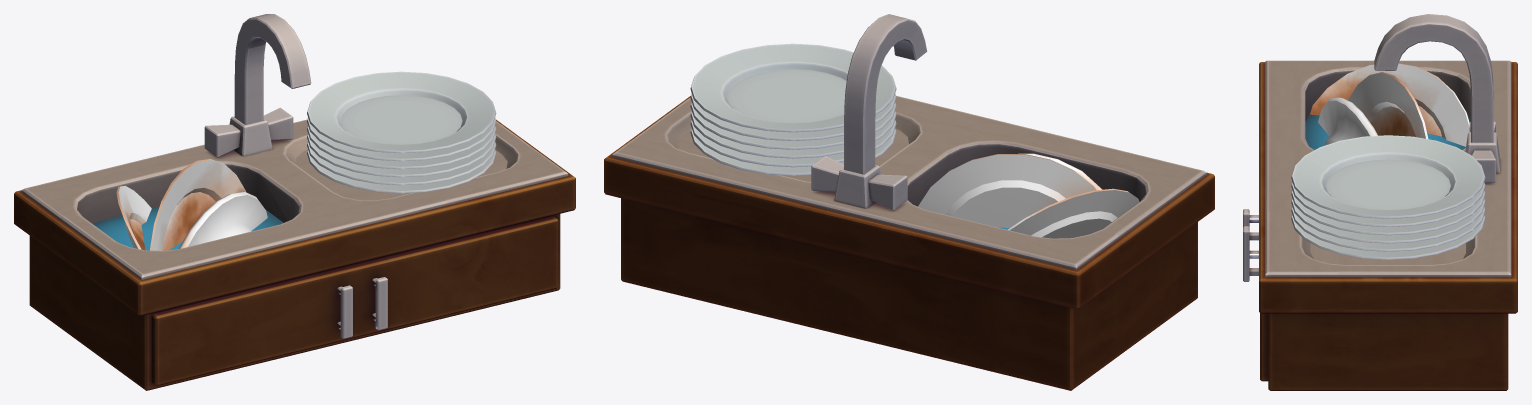
File: washSink.gltf
3 views of the same model, side by side, from view 1: azimuth 30°, elevation 25°; view 2: azimuth 150°, elevation 25°; view 3: azimuth 270°, elevation 25° (orthographic). The views are drawn at different scales.
Visible parts, largest first — view 1: washSink, group6, dirtyPlate1, dirtyPlate2, group2, group1, group3, group4, group5, water, dirtyPlate3; view 2: washSink, group6, dirtyPlate1, dirtyPlate3, group4, group3, group5, group2, group1; view 3: washSink, group6, dirtyPlate3, dirtyPlate1, dirtyPlate2, group5, group2, group1, group4, group3, water.
Boxes of the visible parts, x1,y1,x2,y2 form: washSink: [14, 14, 575, 390]; group6: [307, 71, 496, 153]; dirtyPlate1: [150, 159, 245, 250]; dirtyPlate2: [179, 192, 267, 248]; group2: [307, 141, 496, 185]; group1: [307, 149, 496, 193]; group3: [307, 133, 496, 177]; group4: [307, 125, 496, 169]; group5: [307, 117, 496, 161]; water: [93, 206, 283, 250]; dirtyPlate3: [116, 186, 151, 250]; washSink: [604, 14, 1214, 390]; group6: [690, 43, 896, 132]; dirtyPlate1: [918, 154, 1096, 227]; dirtyPlate3: [1007, 188, 1139, 238]; group4: [690, 102, 896, 149]; group3: [690, 111, 896, 158]; group5: [690, 93, 896, 140]; group2: [690, 120, 896, 167]; group1: [690, 128, 896, 175]; washSink: [1243, 14, 1517, 390]; group6: [1291, 135, 1485, 218]; dirtyPlate3: [1310, 63, 1469, 146]; dirtyPlate1: [1348, 72, 1428, 138]; dirtyPlate2: [1318, 97, 1377, 145]; group5: [1291, 182, 1485, 226]; group2: [1291, 207, 1485, 251]; group1: [1291, 215, 1485, 259]; group4: [1291, 190, 1485, 235]; group3: [1291, 199, 1485, 243]; water: [1305, 114, 1470, 149].
Bounding box in the file's own units: 4 × 2.3 × 2.12.
4 materials, 4 textured.
